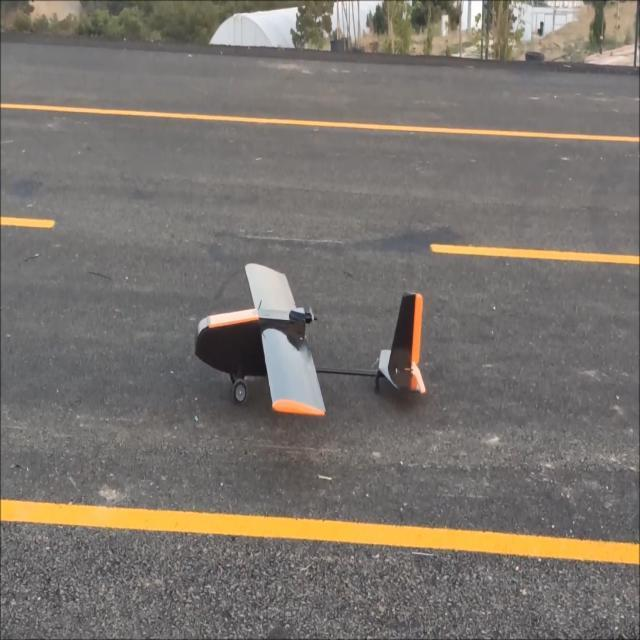UAV: (186, 248, 464, 452)
